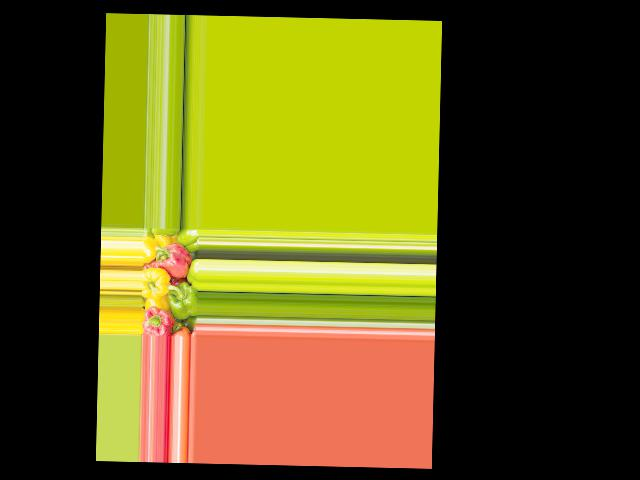bell_pepper: (142, 302, 175, 335)
